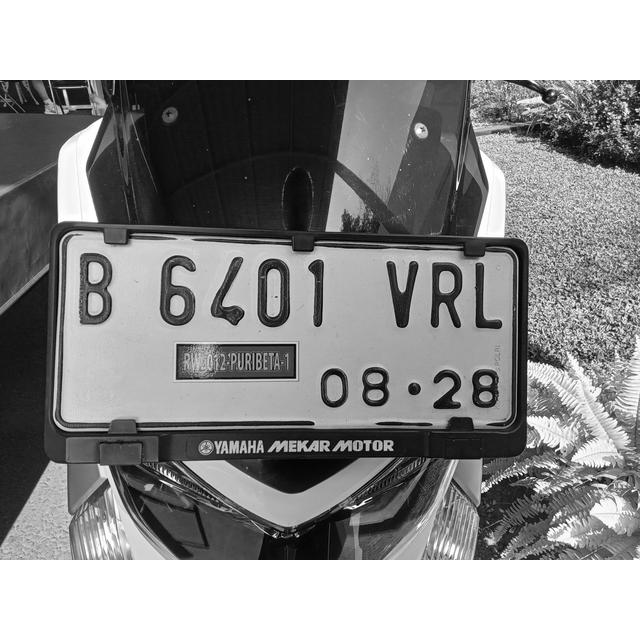license: (72, 250, 508, 415)
